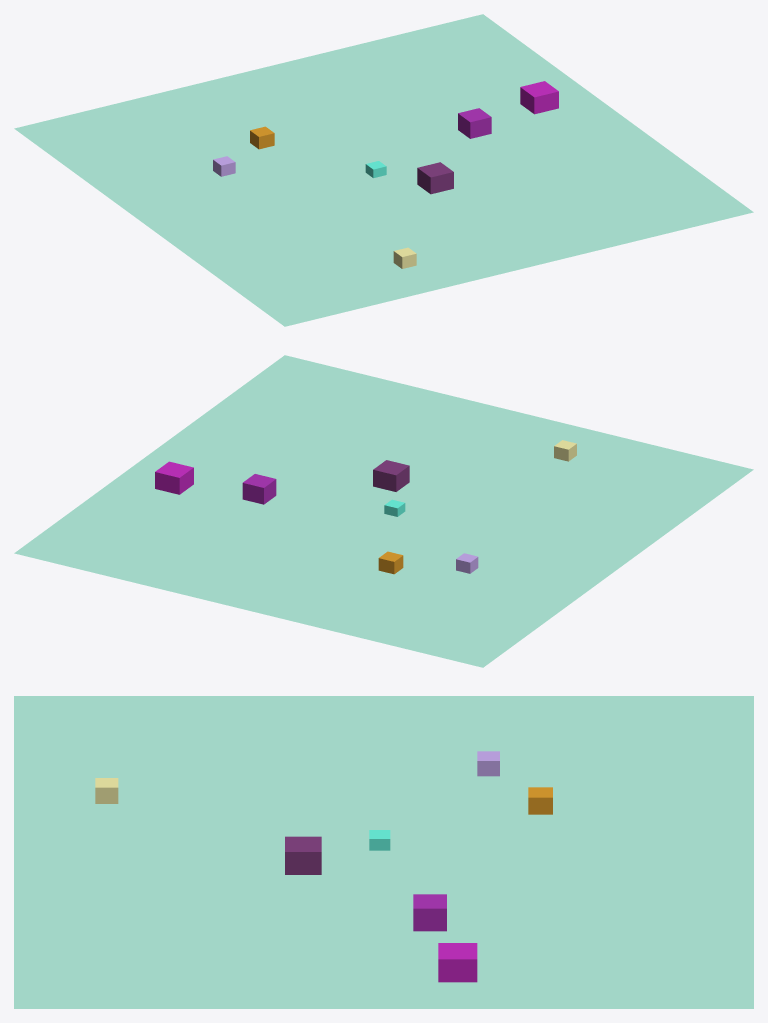
The picture shows the model from 3 angles, top to bottom: view 1: azimuth 30°, elevation 25°; view 2: azimuth 150°, elevation 25°; view 3: azimuth 270°, elevation 25°; orthographic projection. The views are drawn at different scales.
Visible parts, largest first — view 1: Chunk_2_2; view 2: Chunk_2_2; view 3: Chunk_2_2.
Part boxes in pixels (x1,y1,x2,y2): Chunk_2_2: (14, 14, 753, 326); Chunk_2_2: (14, 355, 753, 667); Chunk_2_2: (14, 696, 753, 1008).
Size of the model in its own units: 1500 by 78.86 by 1500.
